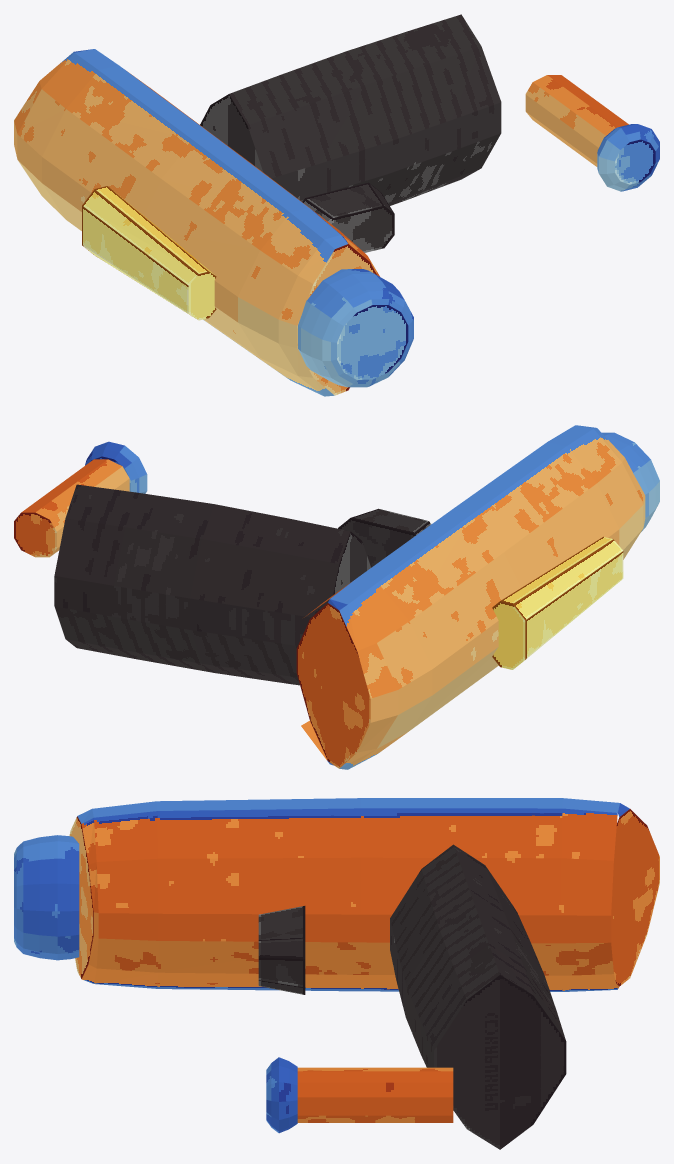
Rendered from dartgun.glb.
3 views of the same model, one above another, from view 1: azimuth 30°, elevation 25°; view 2: azimuth 150°, elevation 25°; view 3: azimuth 270°, elevation 25° (orthographic). The views are drawn at different scales.
Parts seen in each view (by area): view 1: barrel, grip, muzzle, sight, dart_foam, guard, dart_tip; view 2: barrel, grip, sight, dart_foam, guard, muzzle, dart_tip; view 3: barrel, grip, dart_foam, muzzle, guard, dart_tip.
Part boxes in pixels (bbox=[...]): barrel: bbox=[14, 49, 379, 396]; grip: bbox=[200, 14, 501, 205]; muzzle: bbox=[298, 269, 413, 387]; sight: bbox=[82, 186, 216, 320]; dart_foam: bbox=[525, 75, 628, 166]; guard: bbox=[302, 182, 394, 252]; dart_tip: bbox=[597, 124, 659, 191]; barrel: bbox=[296, 425, 645, 769]; grip: bbox=[54, 484, 370, 685]; sight: bbox=[492, 536, 623, 669]; dart_foam: bbox=[14, 459, 129, 557]; guard: bbox=[338, 508, 431, 567]; muzzle: bbox=[602, 432, 659, 531]; dart_tip: bbox=[85, 441, 147, 493]; barrel: bbox=[69, 798, 659, 991]; grip: bbox=[390, 844, 566, 1149]; dart_foam: bbox=[297, 1067, 453, 1122]; muzzle: bbox=[14, 835, 79, 960]; guard: bbox=[258, 906, 305, 994]; dart_tip: bbox=[266, 1057, 297, 1133].
Size of the model in its own units: 40.1 by 13 by 41.46.
Materials: 1 (1 with a texture image).
